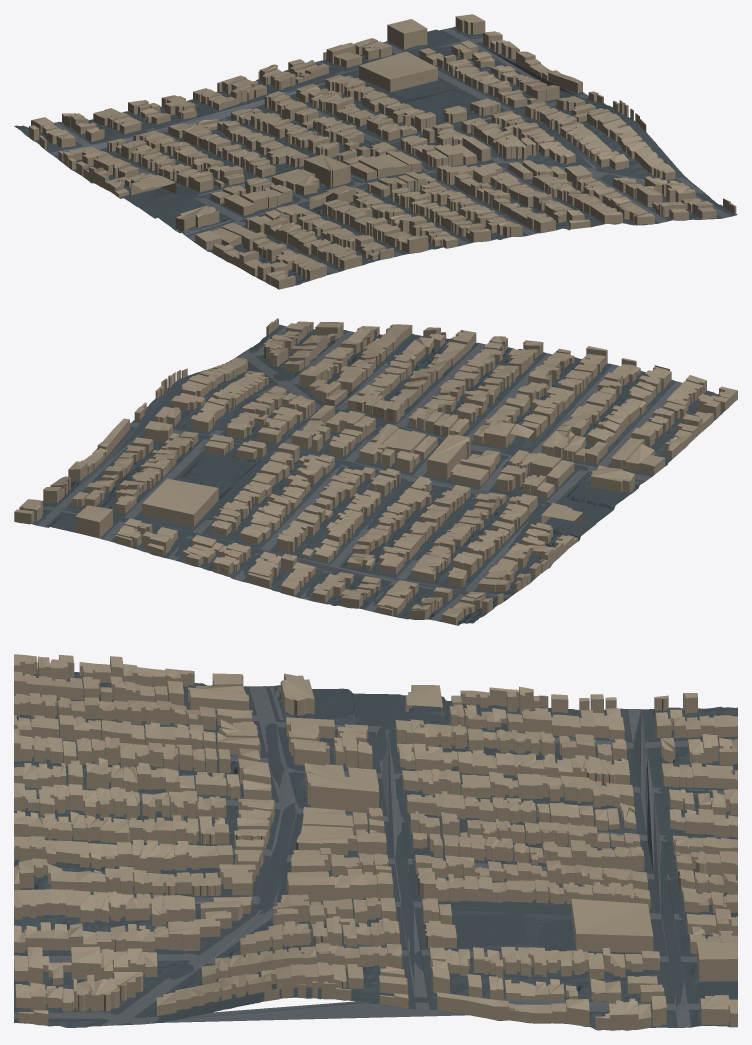
File: epsg26910-1436-10877.lod0.glb
The picture shows the model from 3 angles, top to bottom: view 1: azimuth 30°, elevation 25°; view 2: azimuth 150°, elevation 25°; view 3: azimuth 270°, elevation 25°; orthographic projection. The views are drawn at different scales.
Parts seen in each view (by area): view 1: epsg26910-1436-10877-lod0; view 2: epsg26910-1436-10877-lod0; view 3: epsg26910-1436-10877-lod0.
Part boxes in pixels (<box>): epsg26910-1436-10877-lod0: <box>14,14,737,289</box>; epsg26910-1436-10877-lod0: <box>14,318,737,625</box>; epsg26910-1436-10877-lod0: <box>14,654,737,1030</box>.
Size of the model in its own units: 384 by 52.19 by 384.
